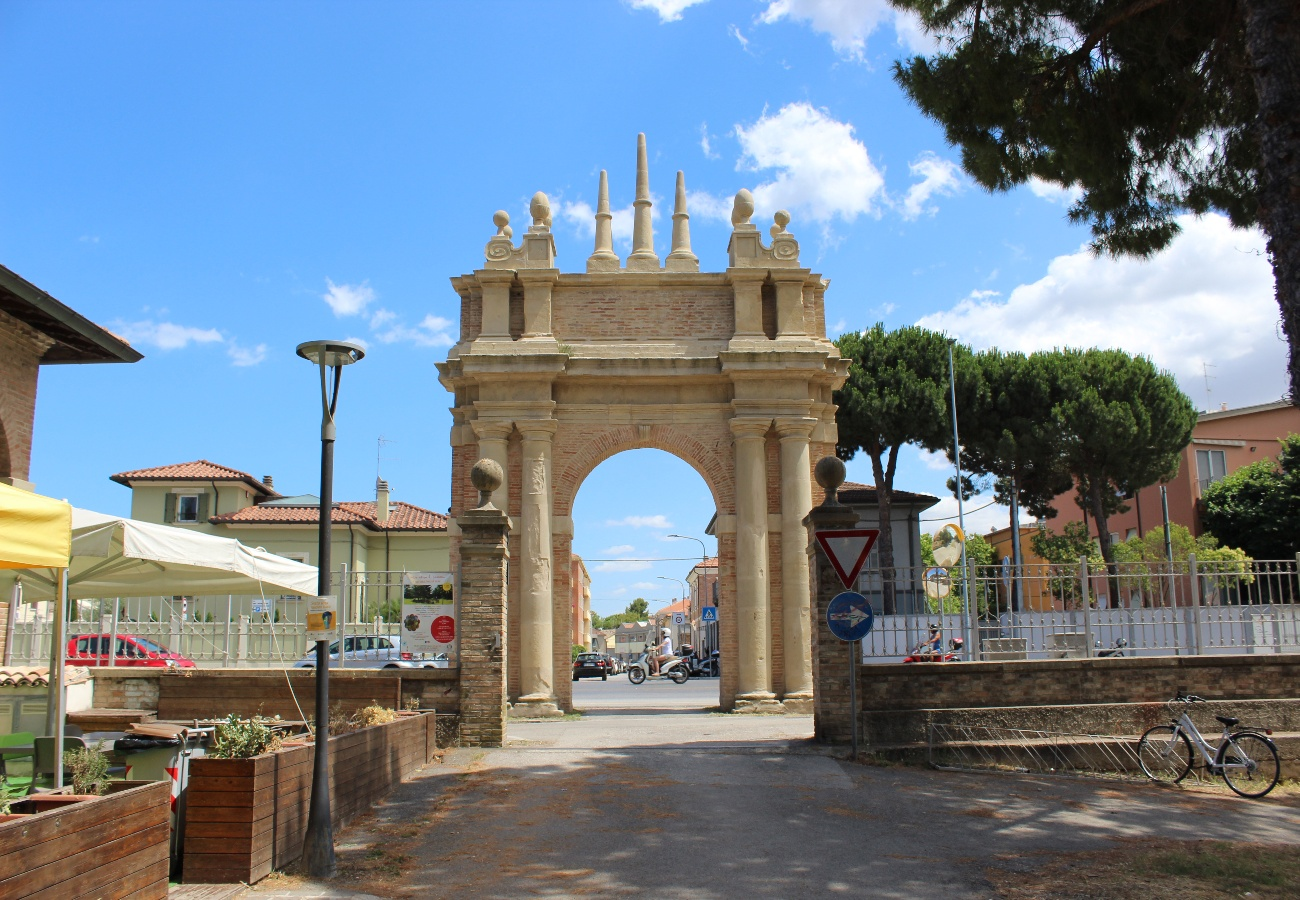Arco di Trionfo: (435, 134, 853, 708)
